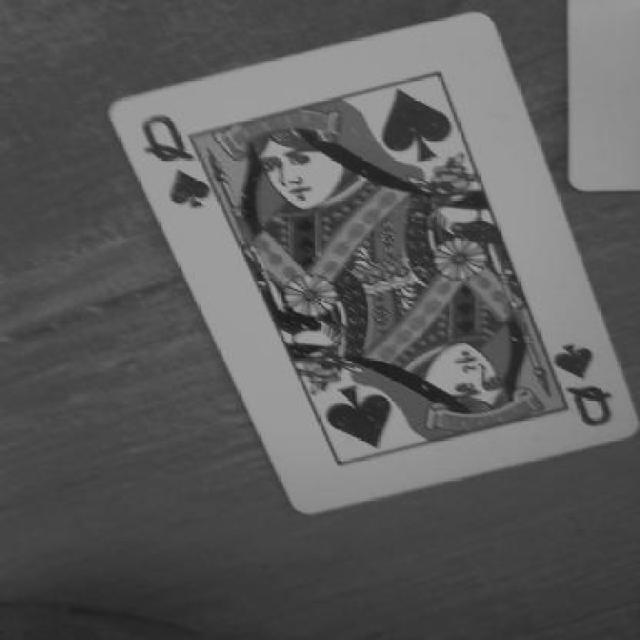QS: (124, 118, 224, 218), (538, 335, 630, 430)
